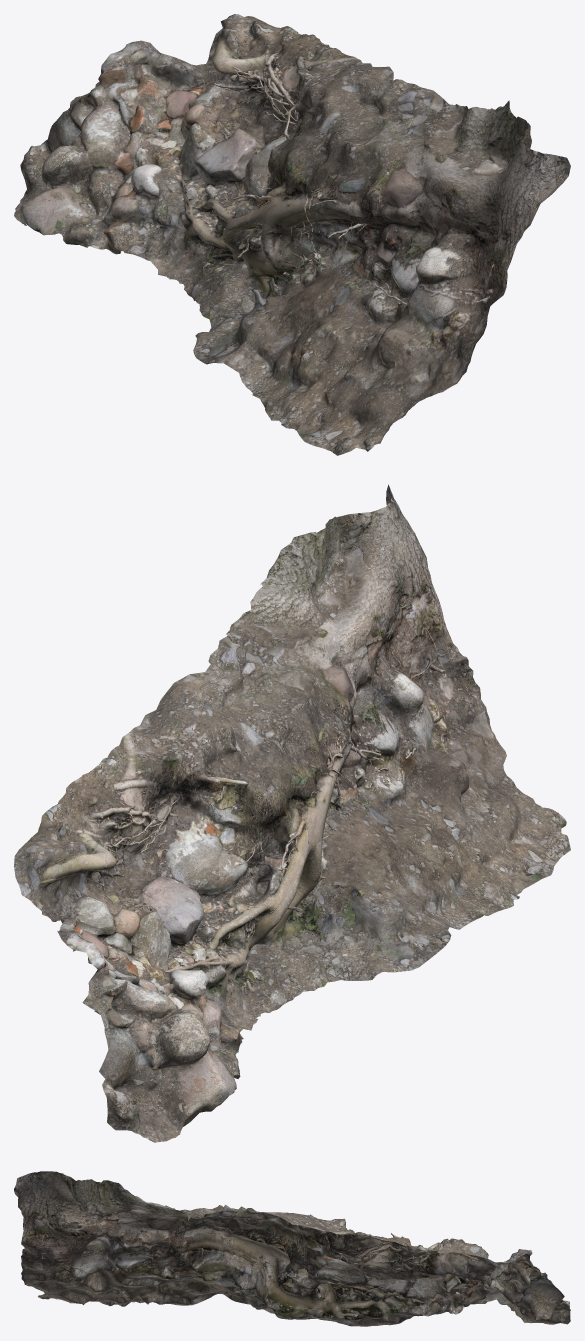
The model's file is sm_Roots_02_01.fbx.
3 views of the same model, one above another, from view 1: azimuth 30°, elevation 25°; view 2: azimuth 150°, elevation 25°; view 3: azimuth 270°, elevation 25° (orthographic). The views are drawn at different scales.
Parts seen in each view (by area): view 1: sm_Roots_02_01_LOD0; view 2: sm_Roots_02_01_LOD0; view 3: sm_Roots_02_01_LOD0.
Part boxes in pixels (x1=…): sm_Roots_02_01_LOD0: x1=14, y1=14, x2=570, y2=455; sm_Roots_02_01_LOD0: x1=14, y1=484, x2=570, y2=1142; sm_Roots_02_01_LOD0: x1=14, y1=1171, x2=570, y2=1326.
Bounding box in the file's own units: 90.74 × 273 × 111.
